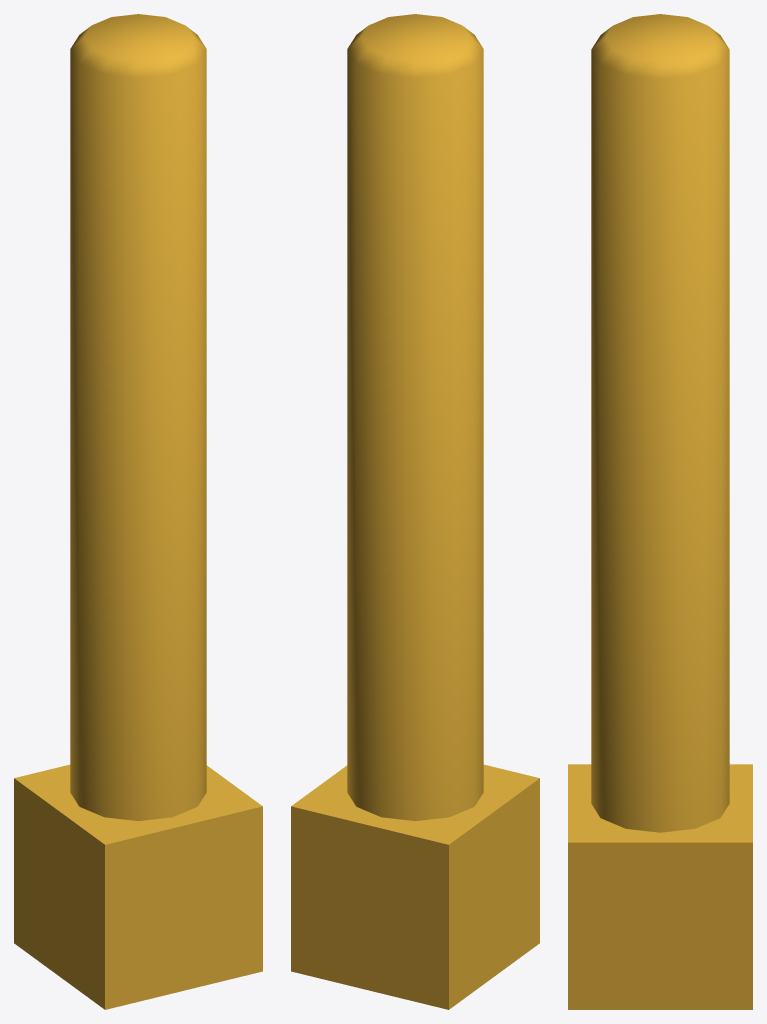
Rendered from pole.glb.
3 renders of one model, left to right at view 1: azimuth 30°, elevation 25°; view 2: azimuth 150°, elevation 25°; view 3: azimuth 270°, elevation 25°, orthographic.
Visible parts, largest first — view 1: Cube; view 2: Cube; view 3: Cube.
Boxes of the visible parts, x1,y1,x2,y2 form: Cube: [14, 14, 262, 1009]; Cube: [291, 14, 539, 1009]; Cube: [568, 14, 752, 1009].
Bounding box in the file's own units: 0.4 × 2.23 × 0.4.
